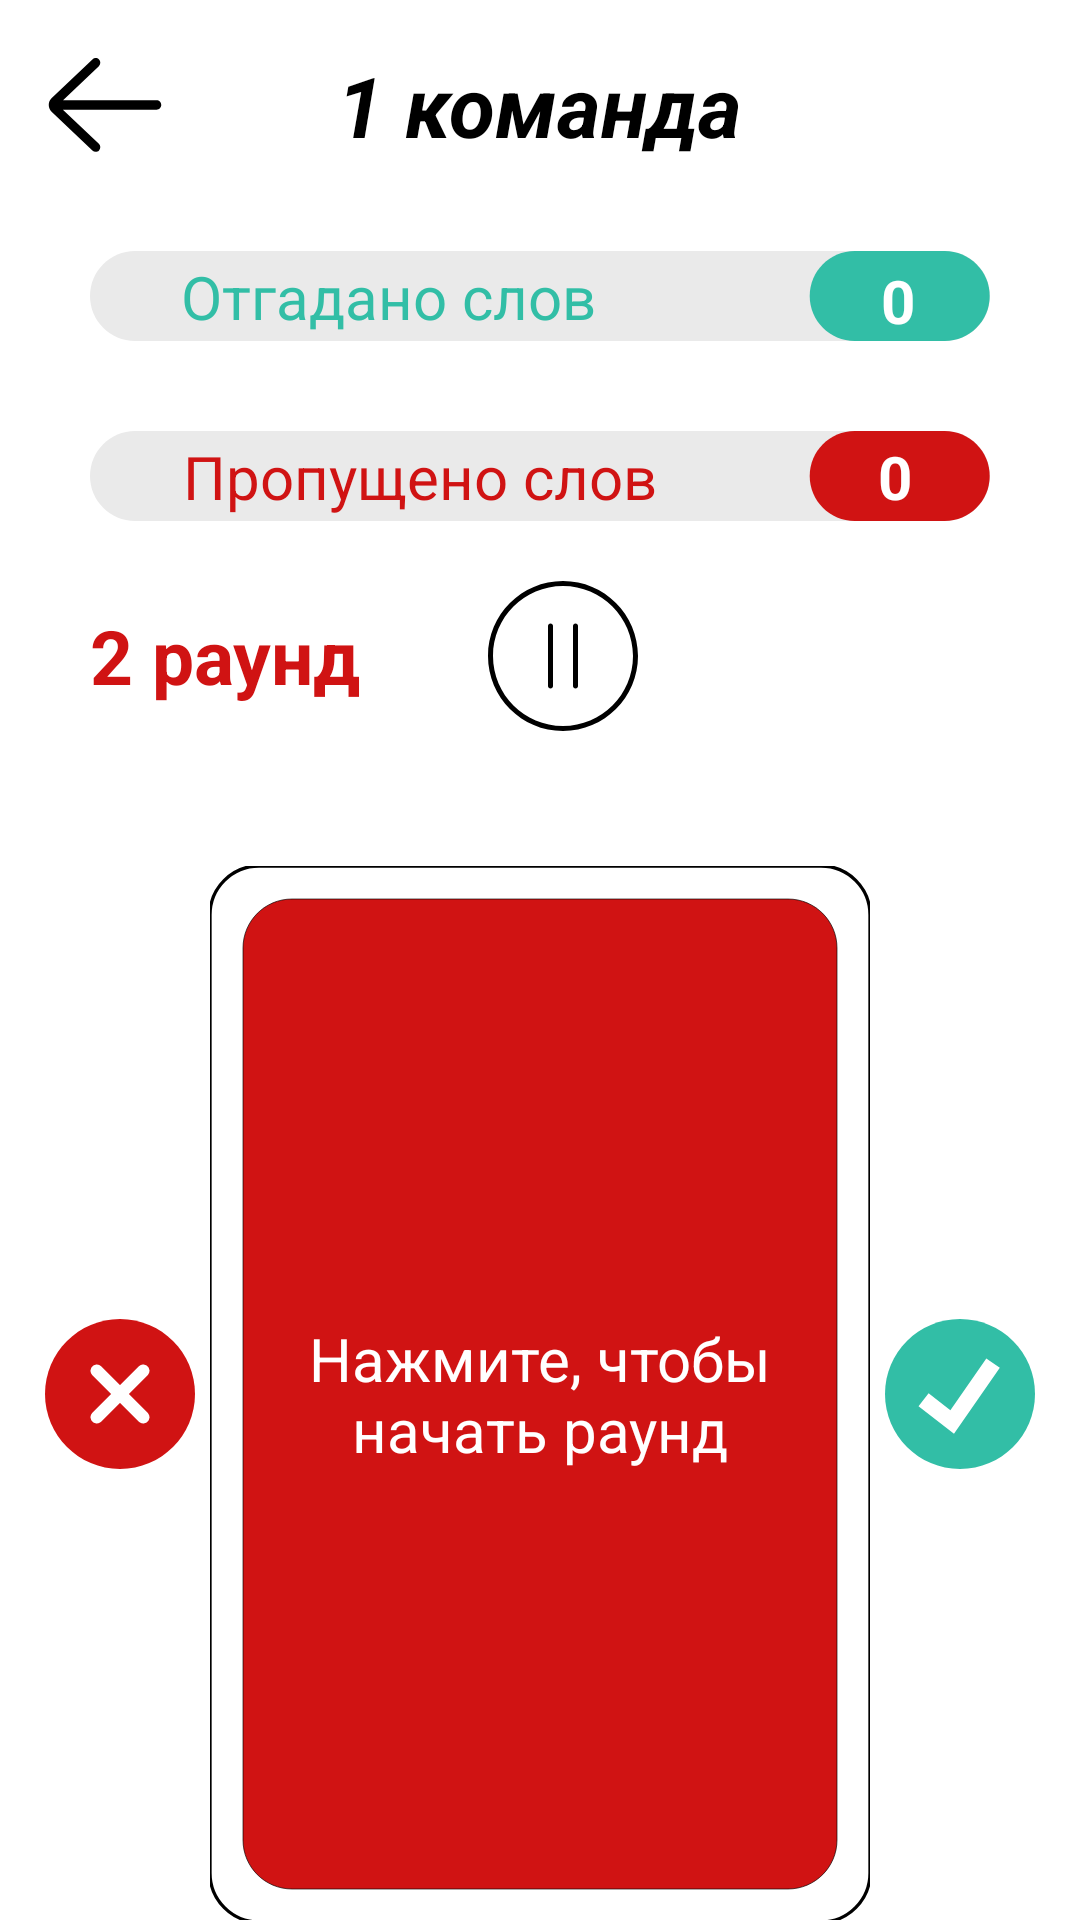

Screen size 1080 × 1920. Icon name, then its box in pixels as (x1=x1, y1=y1, x2=x2, y2=y2):
check: (x1=885, y1=1319, x2=1035, y2=1469)
cross: (x1=45, y1=1319, x2=195, y2=1469)
